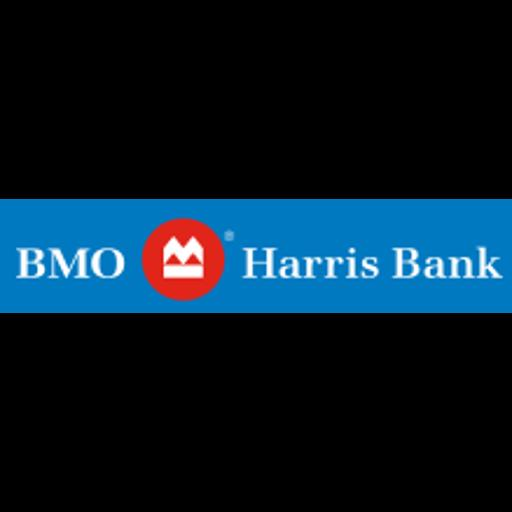Bank of Montreal: (0, 199, 512, 313)
